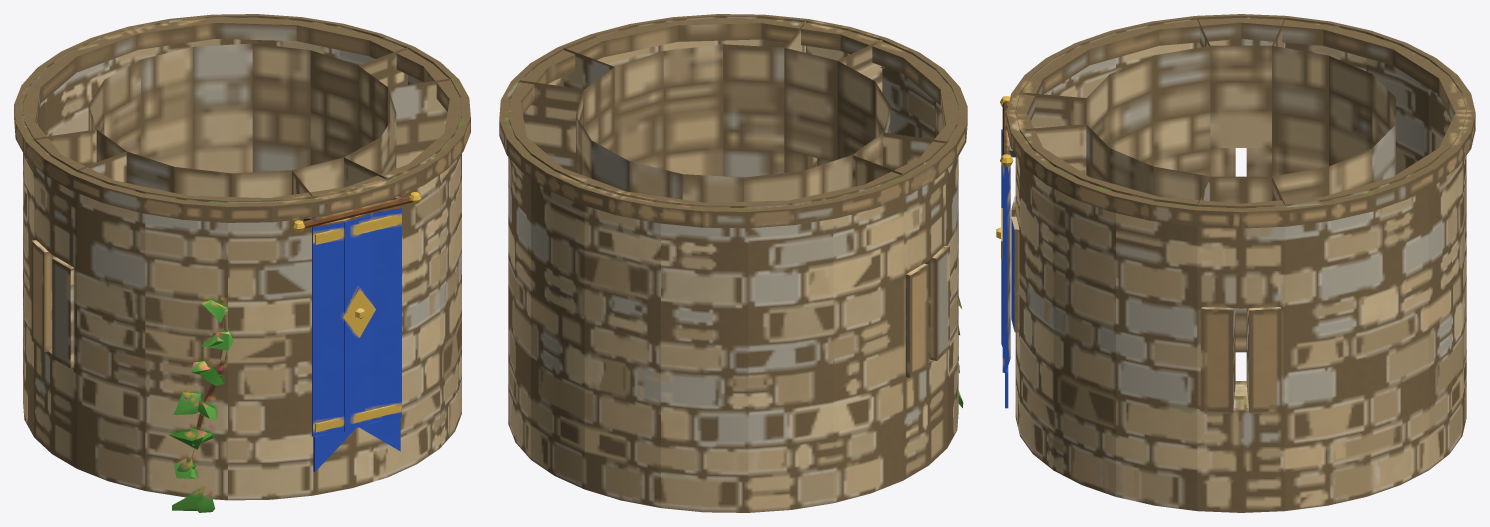
Rendered from Kit_Tower_RingSlit.fbx.
3 views of the same model, side by side, from view 1: azimuth 30°, elevation 25°; view 2: azimuth 150°, elevation 25°; view 3: azimuth 270°, elevation 25° (orthographic). The views are drawn at different scales.
Parts seen in each view (by area): view 1: Kit_Tower_RingSlit_LOD0; view 2: Kit_Tower_RingSlit_LOD0; view 3: Kit_Tower_RingSlit_LOD0.
Part boxes in pixels (<box>): Kit_Tower_RingSlit_LOD0: <box>14,14,470,512</box>; Kit_Tower_RingSlit_LOD0: <box>499,14,967,512</box>; Kit_Tower_RingSlit_LOD0: <box>996,14,1475,512</box>.
Size of what is drawn, in the model's own units: 4.16 by 3.11 by 4.25.
Materials: 1 (1 with a texture image).
